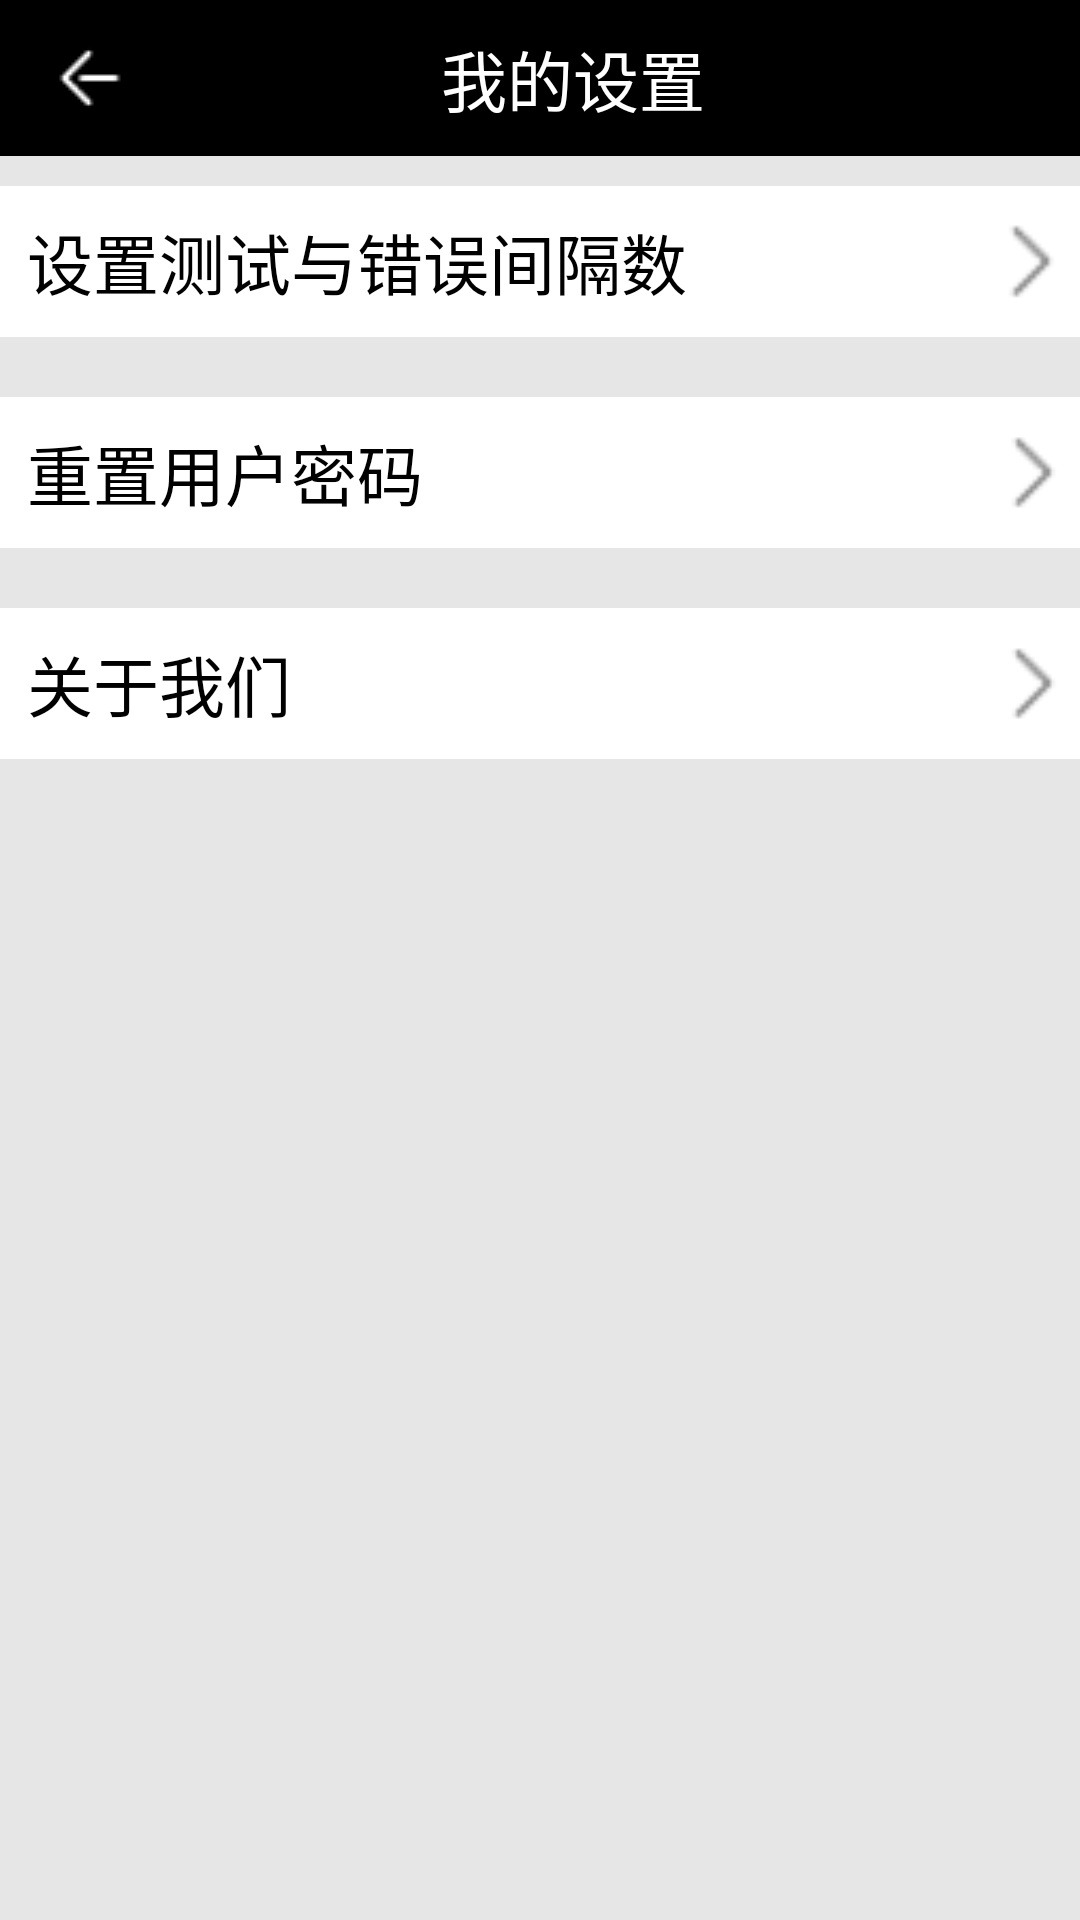

Screen size 1080 x 1920. Icon name, then its center in pixels as (x=x, y=y):
back: (x=90, y=78)
